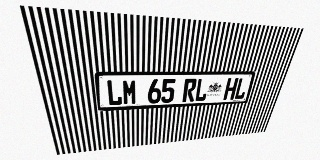5: (161, 79, 176, 103)
6: (148, 79, 162, 104)
H: (223, 78, 239, 100)
L: (106, 80, 122, 106), (194, 78, 209, 101), (233, 78, 249, 99)
M: (122, 79, 137, 105)
R: (182, 78, 197, 102)
